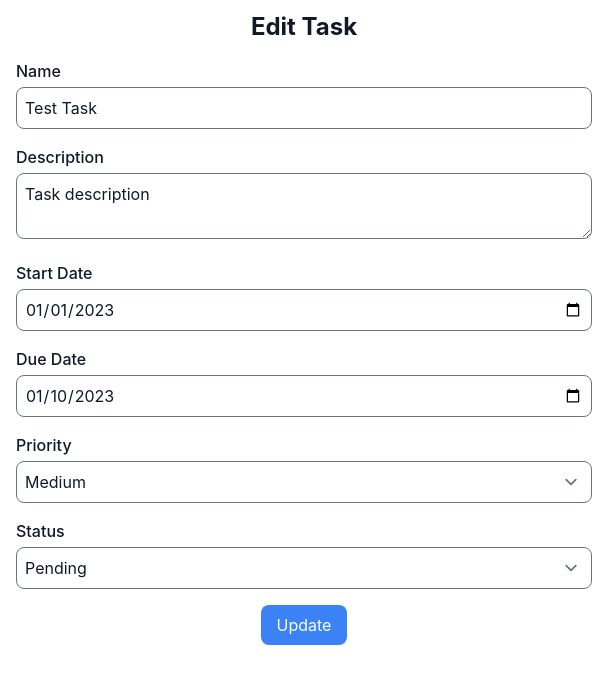
Test: EditTask Component › shows error message if update fails
The image size is (609, 695).
Expected: the field with test id "nameInput" holds "Test Task", left=16, top=87, right=592, bottom=129
Click the button with test id "submitButton".
click(304, 625)  # box left=260, top=605, right=347, bottom=645
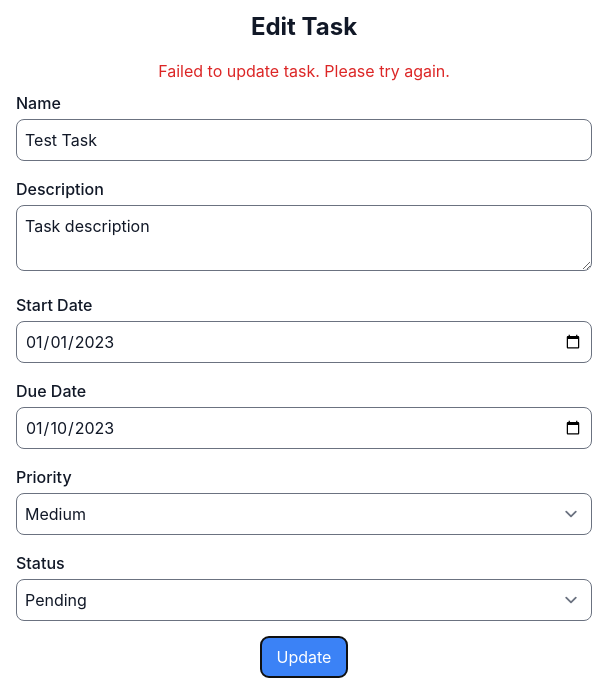
Expected: the text with test id "errorMessage" reads "Failed to update task. Please try again.", left=158, top=61, right=450, bottom=81
